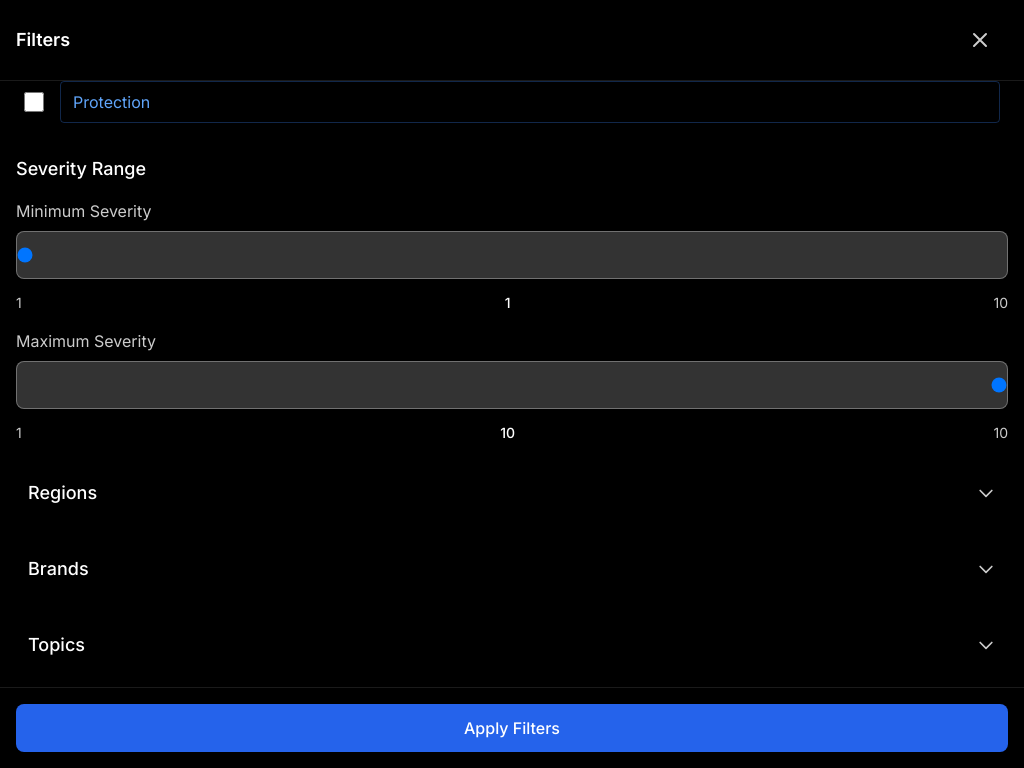
FilterPanel Mobile Behavior › shows collapsible sections with smooth animations
This screenshot has width=1024, height=768.
(page scrolled)
Click the button "Regions" at (63, 492), box top-left (16, 467), bottom-right (1008, 519)
(page scrolled)
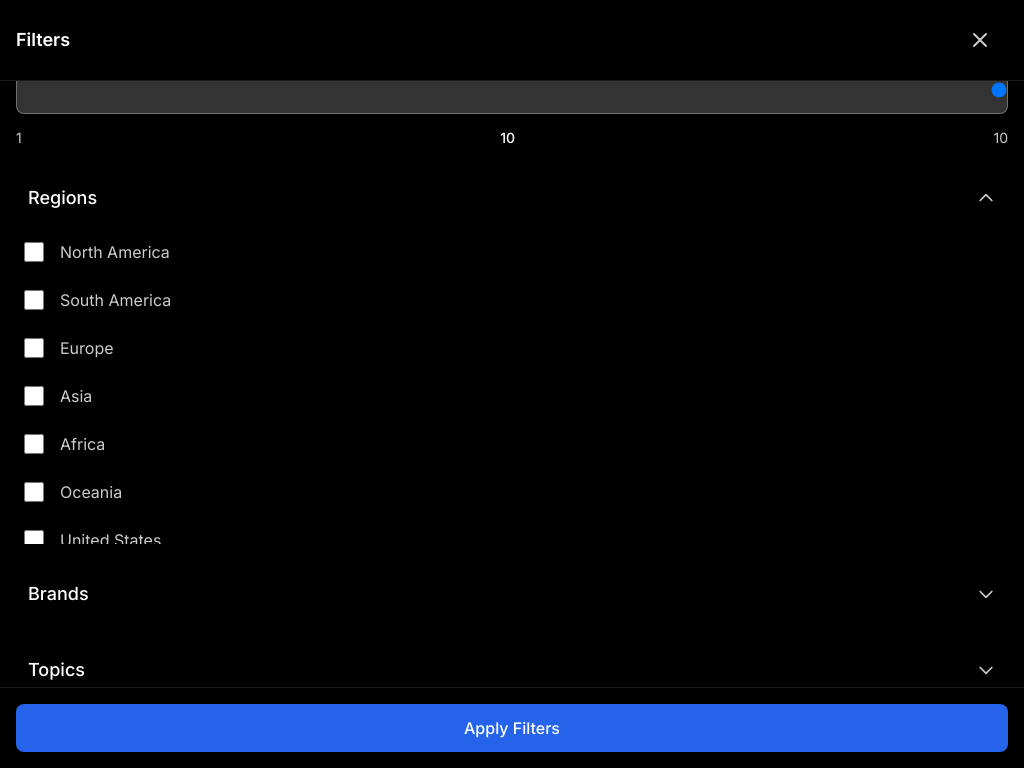
Result: the text "North America" is shown at top-left (60, 242), bottom-right (170, 262)
Result: the element with class "transition-all" is shown at top-left (24, 242), bottom-right (171, 550)
